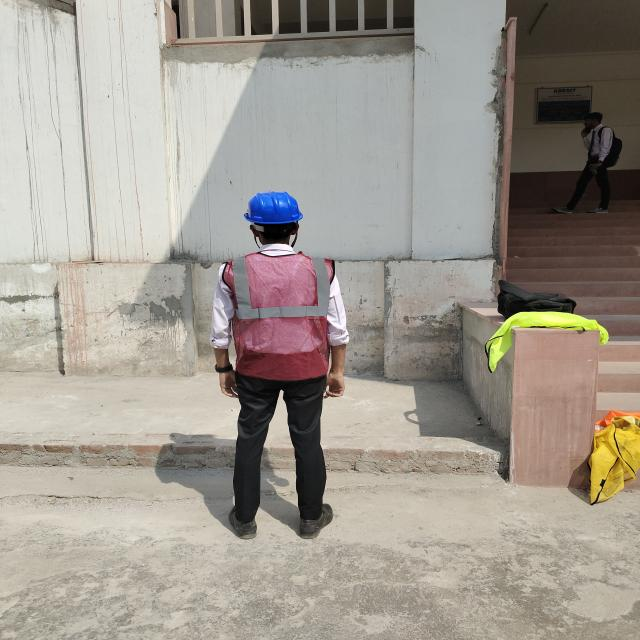safe: (219, 193, 347, 539)
